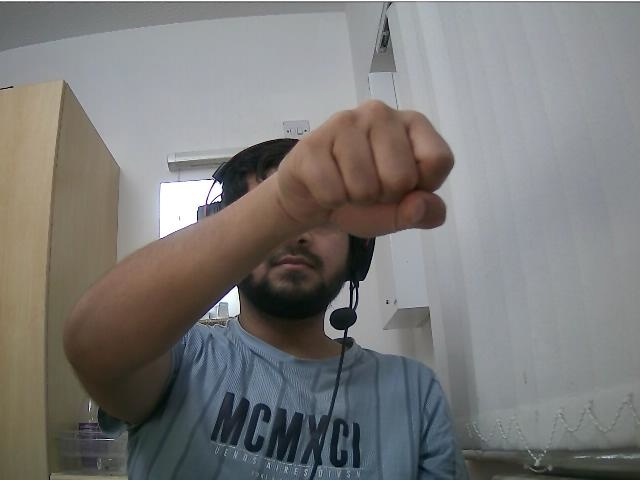hold: (283, 95, 455, 233)
